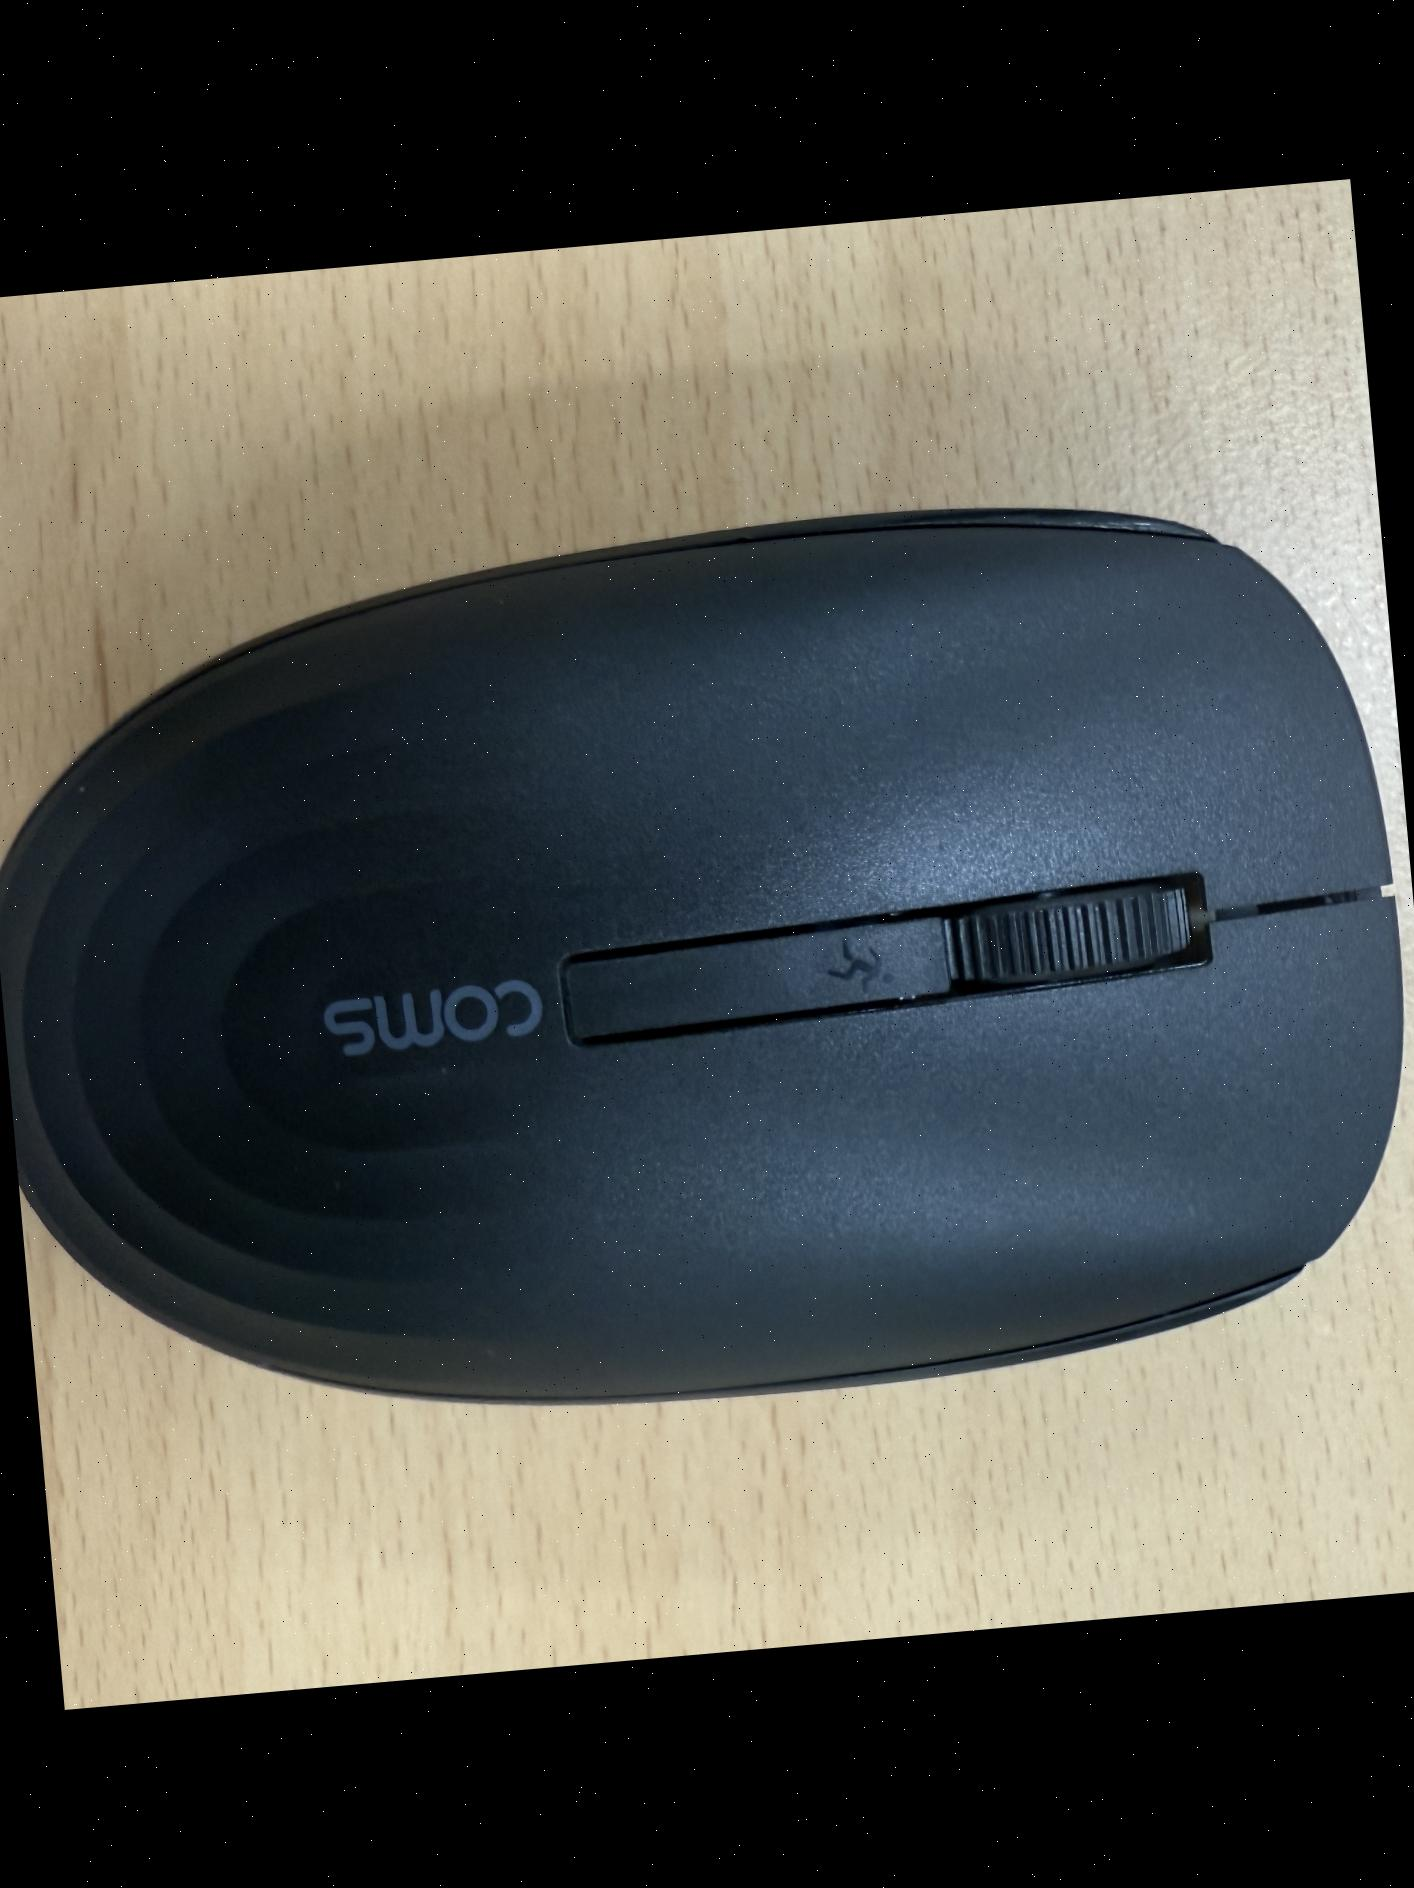front: (0, 465, 1414, 1460)
